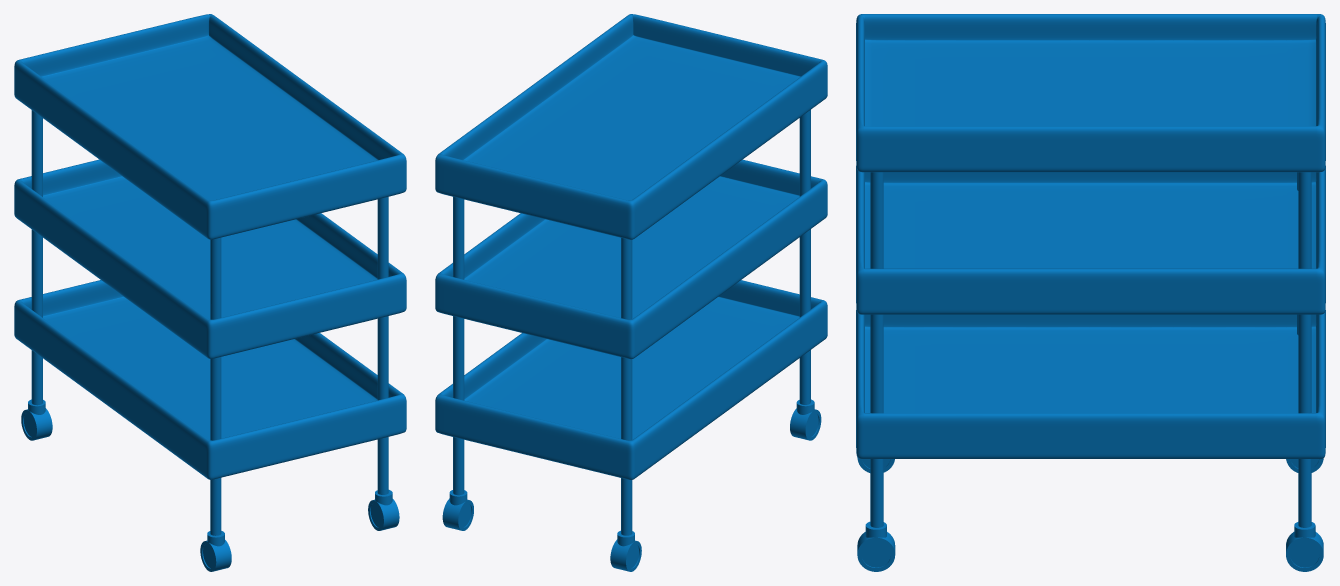
The model's file is Trolley.glb.
3 renders of one model, left to right at view 1: azimuth 30°, elevation 25°; view 2: azimuth 150°, elevation 25°; view 3: azimuth 270°, elevation 25°, orthographic. The views are drawn at different scales.
Visible parts, largest first — view 1: pCube29, pCube32, pCube30, pCylinder3, pCylinder2, pCylinder4, pCylinder8 (×3); view 2: pCube29, pCube32, pCube30, pCylinder1, pCylinder4, pCylinder3, pCylinder8 (×3); view 3: pCube29, pCube32, pCube30, pCylinder2, pCylinder1, pCylinder8 (×2).
Boxes of the visible parts, x1,y1,x2,y2 form: pCube29: (14, 14, 406, 239); pCube32: (14, 280, 406, 479); pCube30: (14, 159, 406, 358); pCylinder3: (210, 237, 221, 535); pCylinder2: (377, 197, 388, 494); pCylinder4: (31, 110, 42, 405); pCylinder8 (×3): (21, 408, 399, 571); pCube29: (435, 14, 827, 239); pCube32: (435, 280, 827, 480); pCube30: (435, 159, 827, 359); pCylinder1: (453, 197, 464, 495); pCylinder4: (621, 238, 632, 535); pCylinder3: (799, 110, 810, 404); pCylinder8 (×3): (442, 408, 821, 571); pCube29: (856, 14, 1325, 172); pCube32: (856, 309, 1325, 458); pCube30: (856, 166, 1325, 314); pCylinder2: (870, 172, 883, 527); pCylinder1: (1298, 172, 1311, 527); pCylinder8 (×2): (857, 532, 1323, 571).
Bounding box in the file's own units: 2.16 × 3.89 × 3.69.
